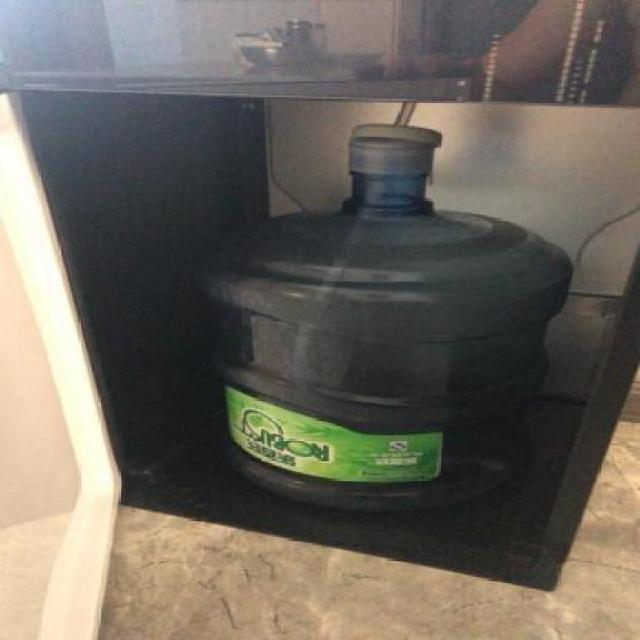coolerbottle: (185, 127, 588, 518)
